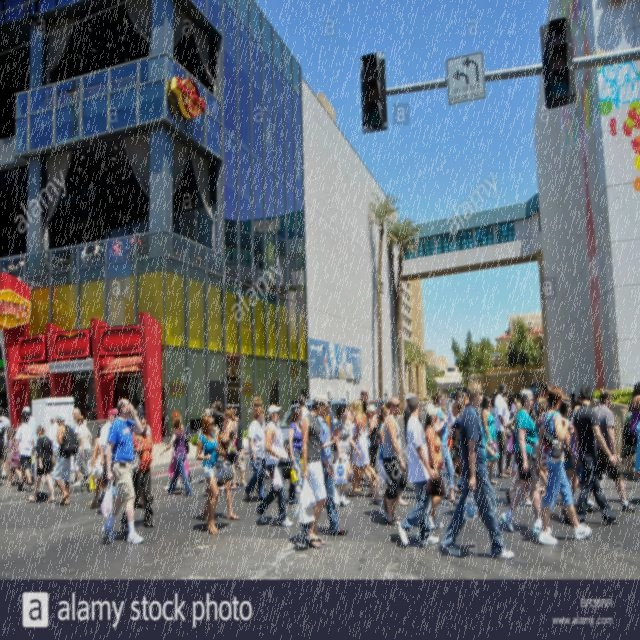pessoa: (440, 379, 518, 561), (534, 385, 592, 546), (500, 387, 552, 536), (571, 382, 621, 529), (190, 508, 350, 553), (396, 394, 442, 550), (300, 395, 350, 538), (299, 392, 344, 550), (586, 387, 640, 515), (100, 396, 145, 546), (194, 414, 236, 536), (254, 402, 294, 528), (118, 416, 156, 532), (201, 412, 241, 522), (380, 396, 410, 528), (328, 402, 362, 507), (432, 390, 460, 508), (346, 398, 376, 498), (158, 416, 194, 498), (383, 400, 410, 508), (424, 402, 446, 529), (353, 399, 382, 493), (569, 404, 595, 507), (558, 398, 580, 518), (51, 413, 79, 507), (27, 422, 56, 504), (244, 405, 267, 502), (618, 381, 640, 477), (135, 407, 155, 510), (12, 409, 36, 494), (99, 408, 119, 503), (493, 382, 512, 480), (480, 394, 500, 486), (376, 406, 392, 520), (166, 409, 189, 486), (503, 386, 523, 473), (287, 406, 304, 506), (200, 410, 220, 494), (534, 396, 550, 498), (72, 414, 94, 488), (70, 407, 90, 485), (218, 407, 236, 492), (318, 340, 356, 380), (467, 473, 498, 520), (448, 400, 463, 495), (170, 414, 190, 484), (230, 408, 247, 490), (88, 423, 104, 509), (366, 403, 380, 488), (22, 406, 37, 482), (403, 391, 422, 446), (6, 428, 22, 486), (0, 406, 12, 480), (504, 478, 532, 506), (95, 478, 121, 506), (346, 398, 356, 467), (46, 414, 61, 459), (526, 386, 541, 431), (630, 415, 640, 482), (0, 407, 8, 488), (532, 383, 550, 417), (447, 388, 463, 426), (324, 398, 338, 441), (374, 393, 389, 433), (251, 396, 266, 432), (1, 258, 26, 278), (298, 393, 310, 424), (269, 378, 281, 408), (82, 402, 99, 422), (128, 402, 145, 422), (506, 392, 516, 421), (110, 239, 124, 259), (440, 399, 453, 417), (128, 231, 142, 245), (575, 388, 583, 410), (360, 386, 370, 402), (212, 400, 222, 414), (93, 242, 99, 264), (80, 246, 88, 262), (221, 415, 229, 431), (459, 393, 465, 414), (560, 393, 569, 405), (114, 403, 120, 420), (461, 392, 469, 404), (473, 402, 479, 418), (569, 392, 577, 403), (209, 404, 215, 416), (16, 420, 22, 432)
